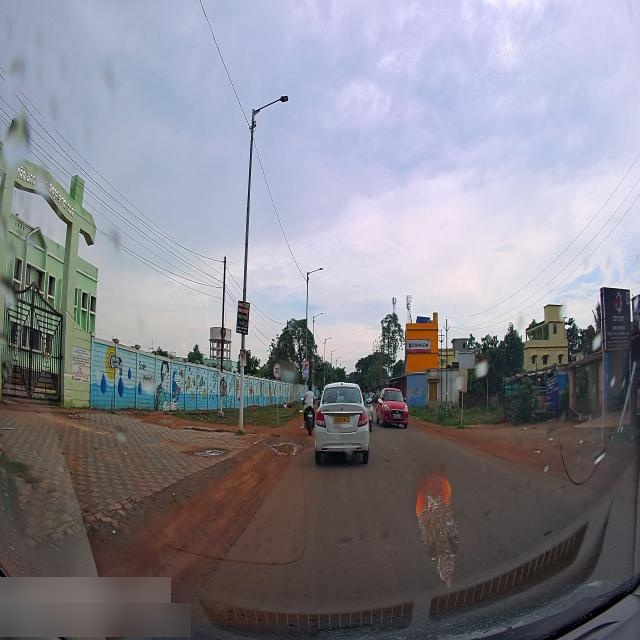pothole: (271, 438, 305, 460), (194, 443, 227, 459)
